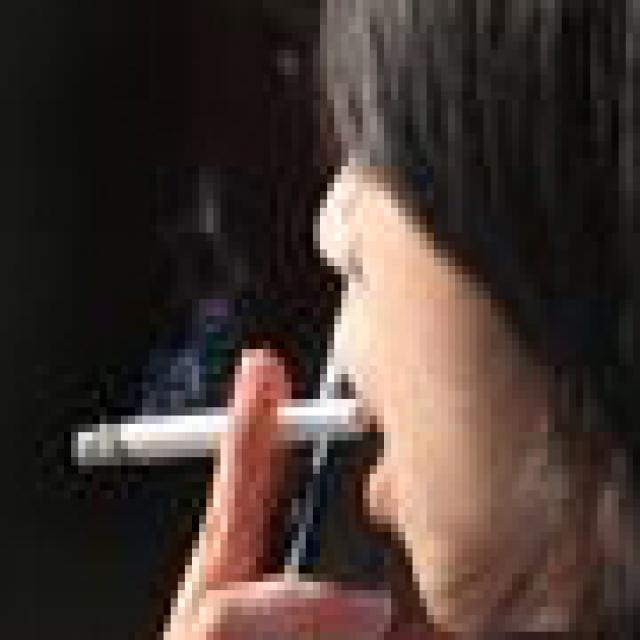smoking: (72, 400, 369, 464)
